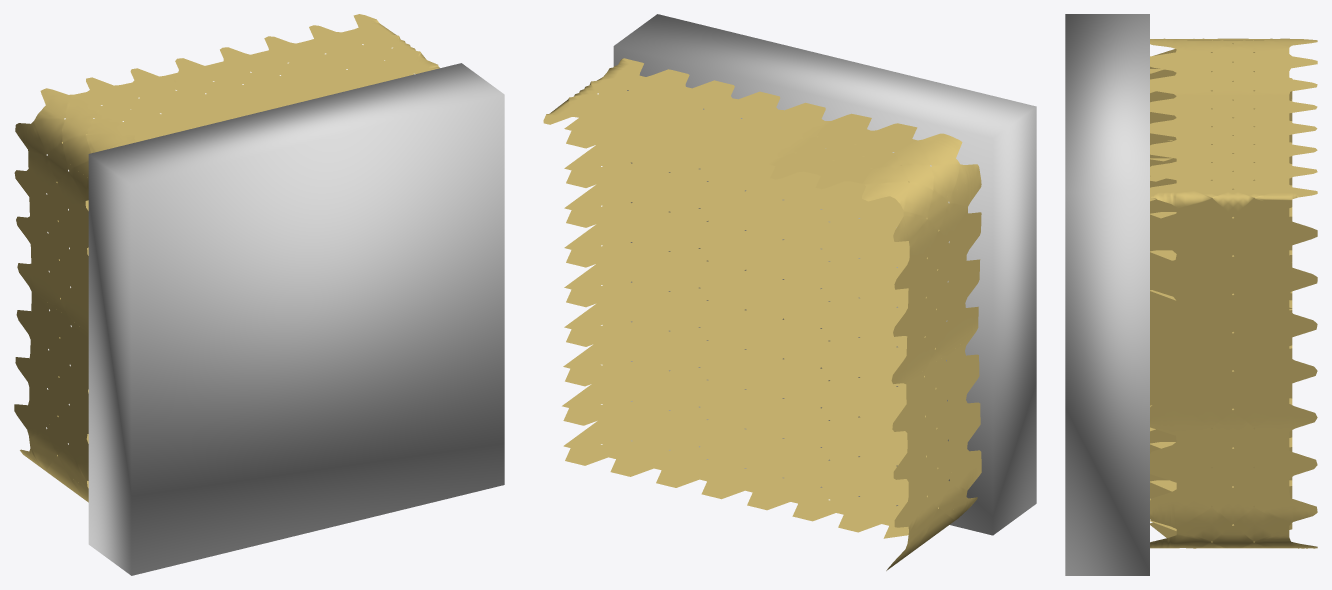
The model's file is Palet_overhangSupport.glb.
3 renders of one model, left to right at view 1: azimuth 30°, elevation 25°; view 2: azimuth 150°, elevation 25°; view 3: azimuth 270°, elevation 25°, orthographic. The views are drawn at different scales.
Parts seen in each view (by area): view 1: Palet.stl, world; view 2: world, Palet.stl; view 3: world, Palet.stl.
Boxes of the visible parts, left/top/right/bottom form: Palet.stl: left=88, top=63, right=504, bottom=575; world: left=14, top=14, right=439, bottom=502; world: left=543, top=58, right=981, bottom=570; Palet.stl: left=613, top=14, right=1036, bottom=535; world: left=1150, top=38, right=1317, bottom=548; Palet.stl: left=1065, top=14, right=1149, bottom=575.
Bounding box in the file's own units: 15 × 15 × 8.95.
